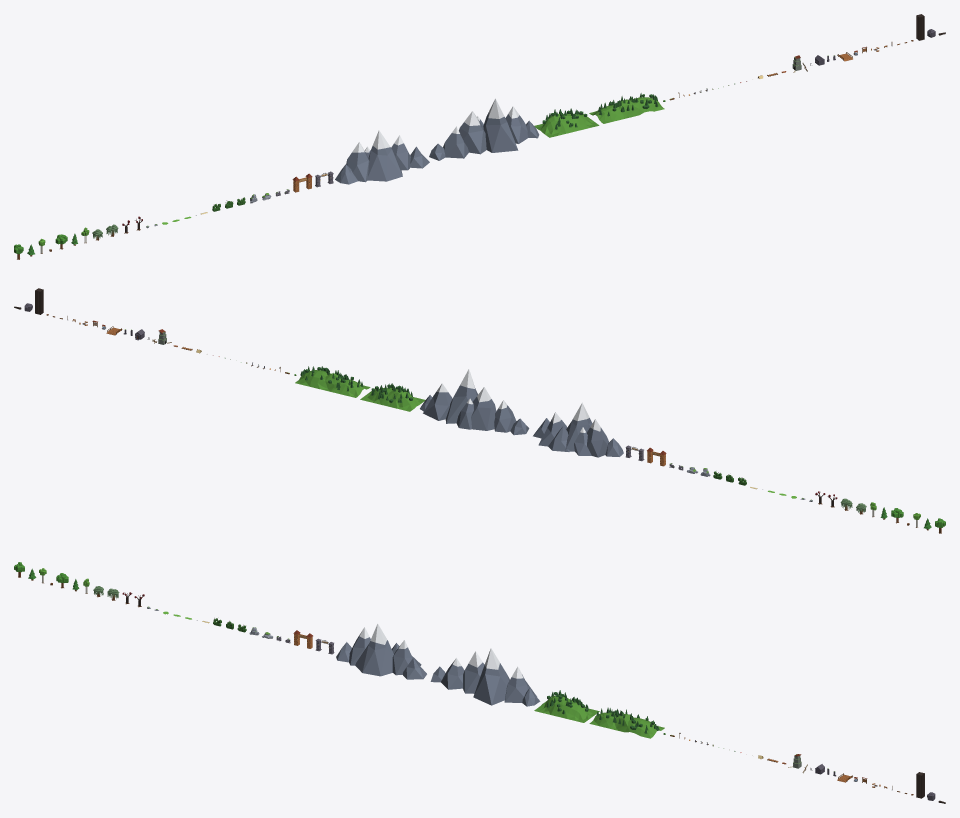
File: AllModels.fbx
3 renders of one model, top to bottom at view 1: azimuth 30°, elevation 25°; view 2: azimuth 150°, elevation 25°; view 3: azimuth 330°, elevation 25°, orthographic.
Parts seen in each view (by area): view 1: Mountains2__Mountain, Mountains1__Mountain, Hill2__Hill, Hill1__Hill; view 2: Mountains2__Mountain, Mountains1__Mountain, Hill2__Hill, Hill1__Hill; view 3: Mountains2__Mountain, Mountains1__Mountain, Hill2__Hill, Hill1__Hill.
Boxes of the visible parts, x1,y1,x2,y2 form: Mountains2__Mountain: [429, 112, 539, 160]; Mountains1__Mountain: [335, 143, 429, 184]; Hill2__Hill: [589, 97, 664, 123]; Hill1__Hill: [534, 113, 599, 137]; Mountains2__Mountain: [420, 385, 529, 435]; Mountains1__Mountain: [533, 418, 623, 457]; Hill2__Hill: [295, 370, 370, 397]; Hill1__Hill: [360, 387, 425, 411]; Mountains2__Mountain: [430, 662, 540, 706]; Mountains1__Mountain: [336, 635, 426, 679]; Hill2__Hill: [589, 712, 664, 738]; Hill1__Hill: [534, 695, 599, 722].
Bounding box in the file's own units: 1668 × 85.83 × 81.9.
